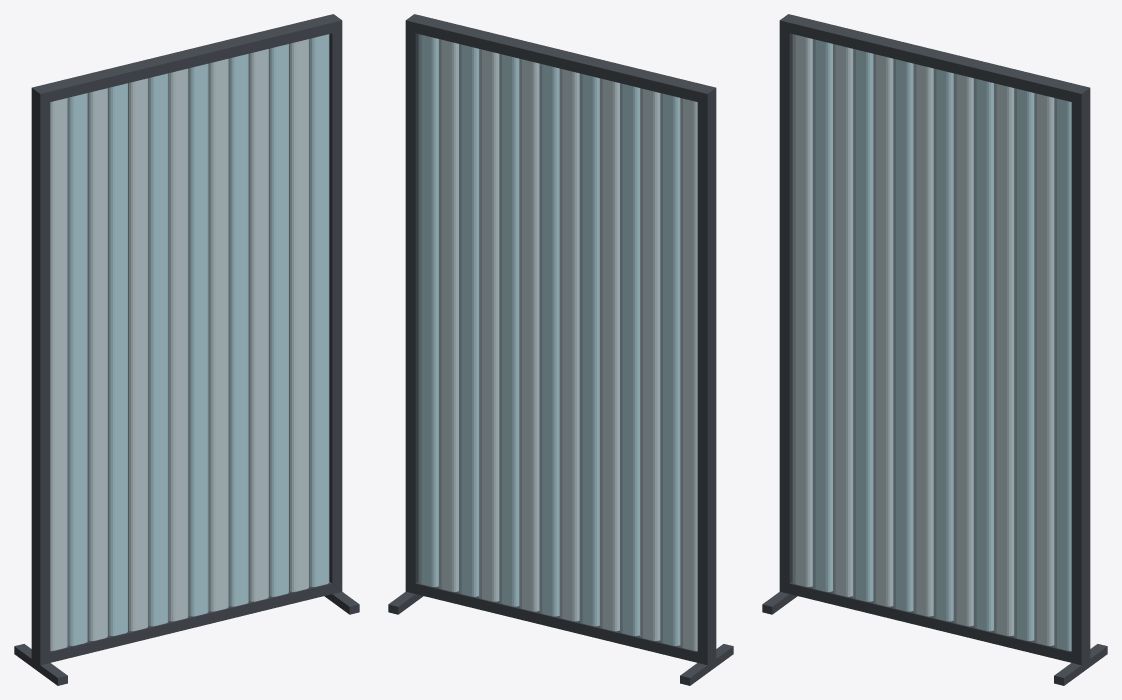
File: fluted_glass_panel.glb
3 views of the same model, side by side, from view 1: azimuth 30°, elevation 25°; view 2: azimuth 150°, elevation 25°; view 3: azimuth 330°, elevation 25° (orthographic).
Visible parts, largest first — view 1: fluted_glass_panel_Body; view 2: fluted_glass_panel_Body; view 3: fluted_glass_panel_Body.
Part boxes in pixels (left/top/right/bottom): fluted_glass_panel_Body: left=14, top=14, right=359, bottom=685; fluted_glass_panel_Body: left=388, top=14, right=733, bottom=685; fluted_glass_panel_Body: left=762, top=14, right=1107, bottom=685.
Bounding box in the file's own units: 1.2 × 2.2 × 0.3.
